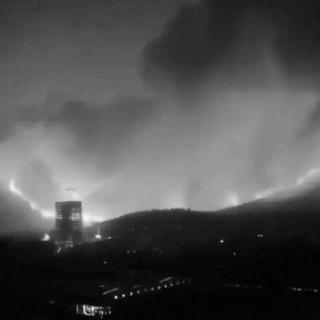Fire: (121, 169, 319, 215), (6, 172, 108, 242)
Smoke: (2, 3, 312, 163)
